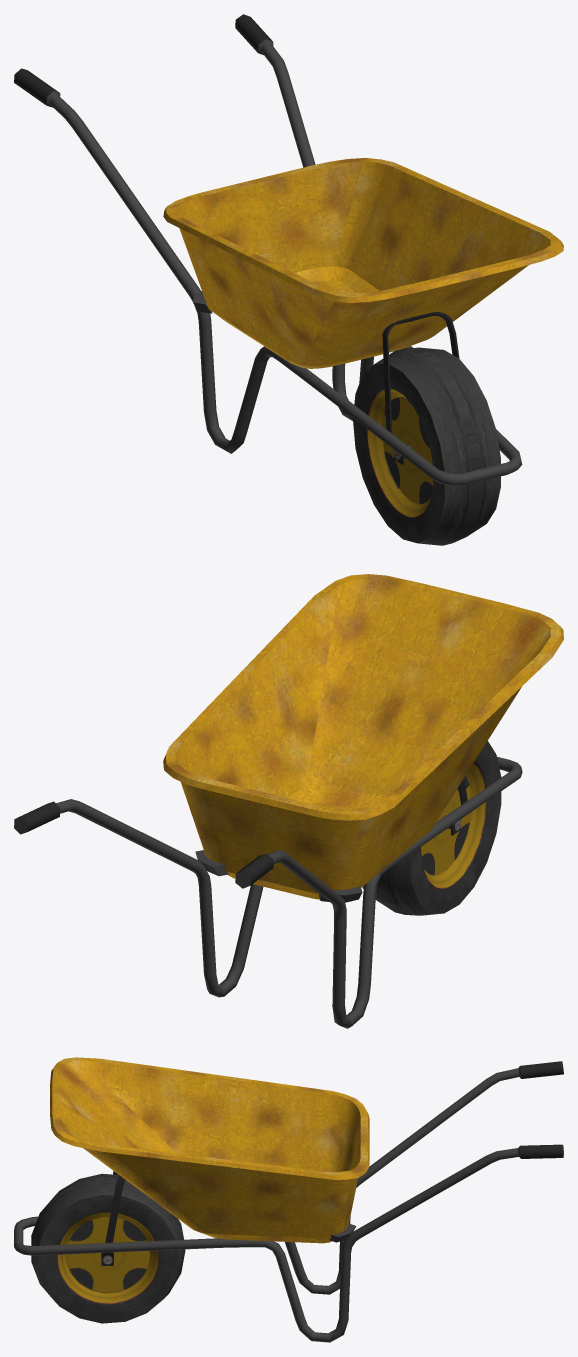
The picture shows the model from 3 angles, top to bottom: view 1: azimuth 30°, elevation 25°; view 2: azimuth 150°, elevation 25°; view 3: azimuth 270°, elevation 25°; orthographic projection. The views are drawn at different scales.
Parts seen in each view (by area): view 1: Body 1, Wheel_F; view 2: Body 1, Wheel_F; view 3: Body 1, Wheel_F.
Boxes of the visible parts, x1,y1,x2,y2 form: Body 1: (14, 14, 563, 486); Wheel_F: (353, 347, 500, 545); Body 1: (14, 574, 563, 1028); Wheel_F: (362, 741, 501, 915); Body 1: (14, 1057, 563, 1342); Wheel_F: (31, 1173, 185, 1323).
Size of the model in its own units: 6.74 by 7.75 by 17.41.
Materials: 1 (1 with a texture image).
